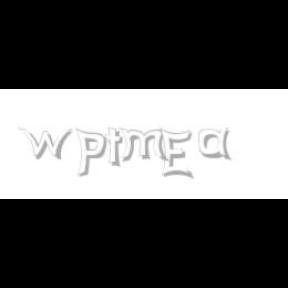E: (160, 128, 192, 180)
P: (75, 128, 107, 178)
a: (198, 128, 235, 160)
m: (118, 128, 170, 162)
t: (105, 128, 127, 168)
w: (18, 128, 78, 160)
